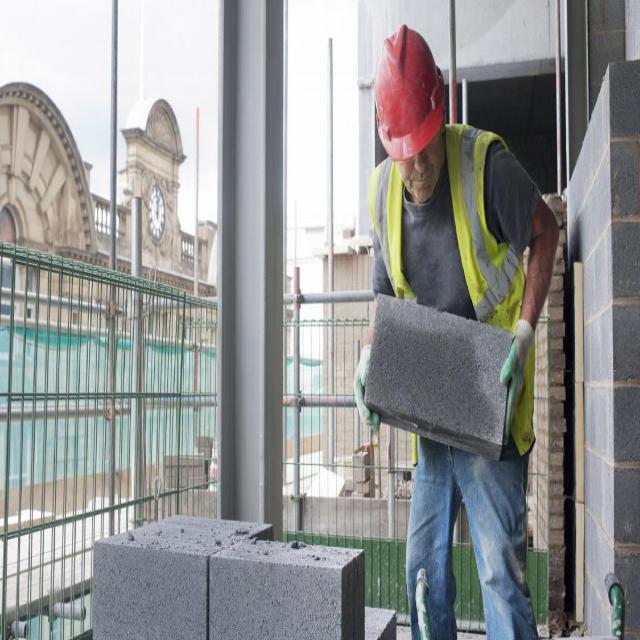Reflective-Jacket: (367, 125, 534, 335)
Safety-Helmet: (369, 20, 448, 163)
